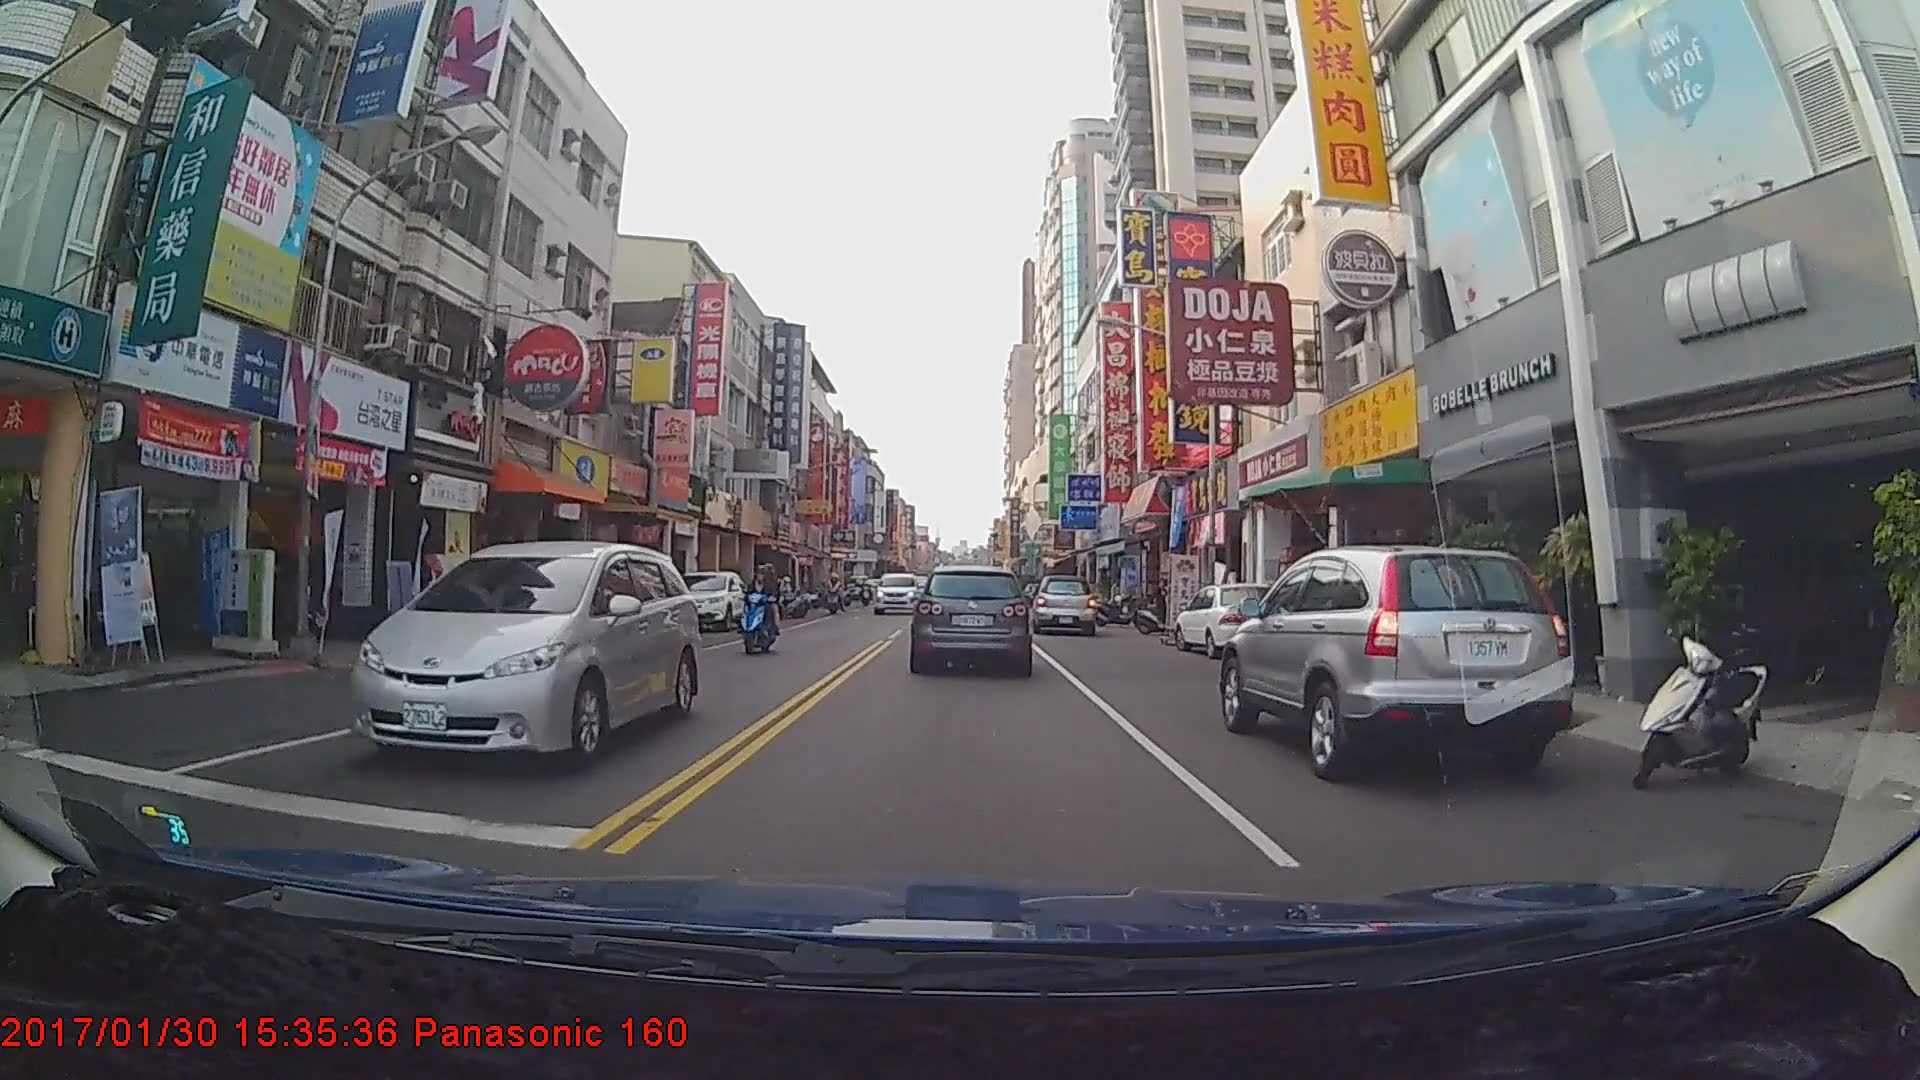rider: (731, 567, 787, 660), (1132, 579, 1188, 638)
vehicle: (345, 539, 704, 778), (1219, 541, 1570, 781), (915, 563, 1030, 672), (1171, 582, 1289, 657), (665, 571, 751, 633), (1029, 572, 1097, 636), (874, 573, 922, 615)
